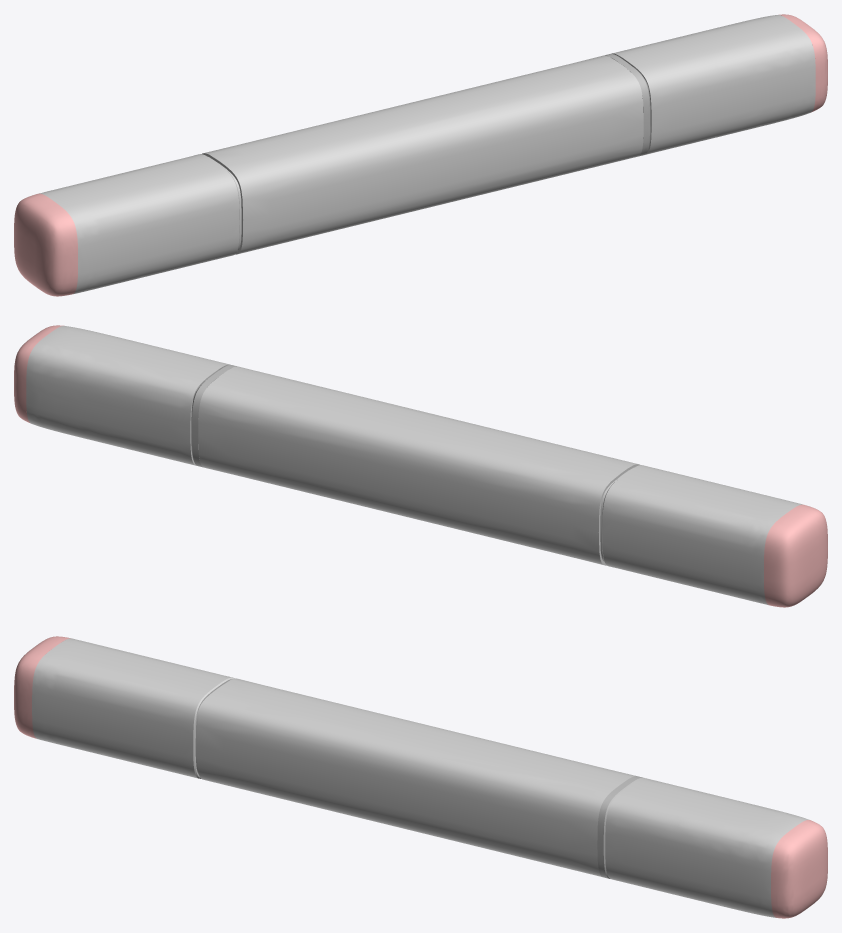
File: 273_イラストマーカー.glb
3 renders of one model, top to bottom at view 1: azimuth 30°, elevation 25°; view 2: azimuth 150°, elevation 25°; view 3: azimuth 330°, elevation 25°, orthographic.
Parts seen in each view (by area): view 1: Body, キャップ2, キャップ1; view 2: Body, キャップ2, キャップ1; view 3: Body, キャップ1, キャップ2.
Part boxes in pixels (left/top/right/bottom): Body: left=202, top=54, right=650, bottom=254; キャップ2: left=14, top=154, right=239, bottom=296; キャップ1: left=611, top=14, right=827, bottom=154; Body: left=191, top=365, right=639, bottom=565; キャップ2: left=602, top=465, right=827, bottom=607; キャップ1: left=14, top=325, right=230, bottom=465; Body: left=195, top=678, right=643, bottom=878; キャップ1: left=605, top=778, right=827, bottom=918; キャップ2: left=14, top=636, right=234, bottom=778.
Size of the model in its own units: 0.1499 by 0.0154 by 0.0153.
